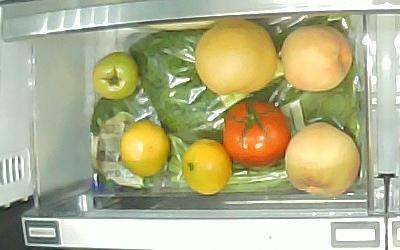peach: (284, 122, 361, 197), (281, 24, 353, 92)
pear: (195, 19, 277, 95)
tangerine: (182, 138, 233, 195), (120, 120, 170, 178)
tomato: (222, 99, 290, 169), (91, 50, 140, 100)
